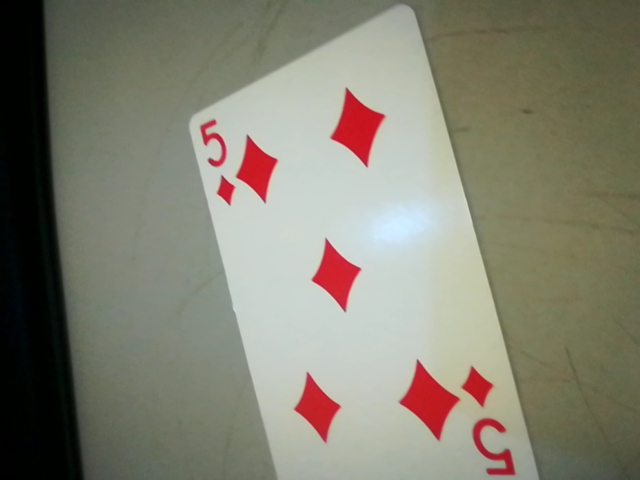fk 5: (457, 359, 527, 480)
